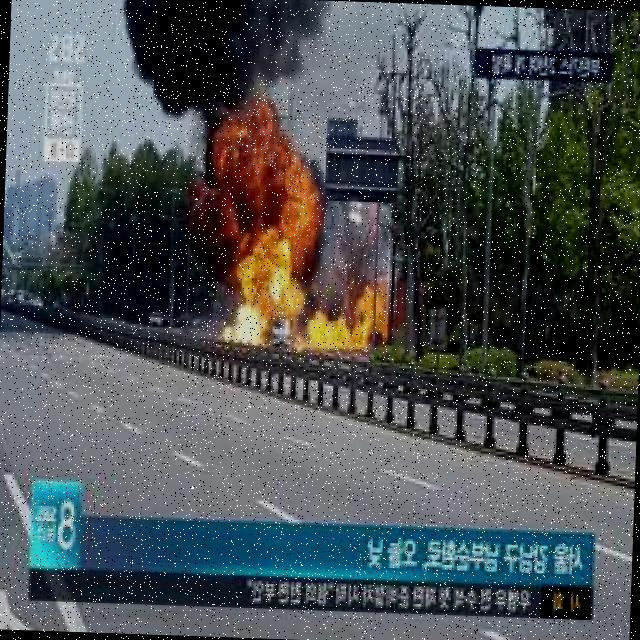Fire: (241, 195, 303, 298), (307, 301, 383, 350), (236, 303, 266, 342)
